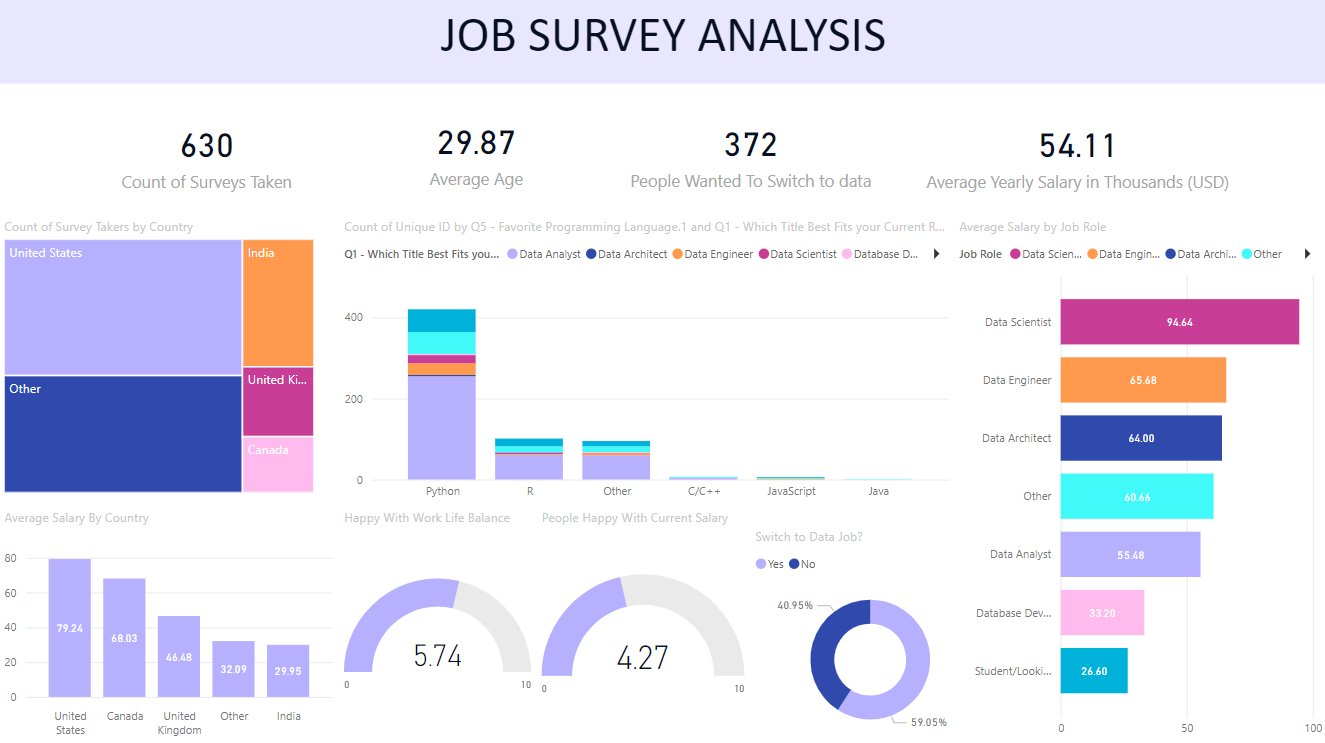

Layout of this report page (visuals, bound fields, positions):
{"tool":"powerbi","page":{"name":"Page 1","canvas":[1280,720],"ordinal":0},"visuals":[{"type":"textbox","box":[0,0,1280.7,81.9],"z":0},{"type":"card","fields":{"Values":["Count(Data Professional Survey.Unique ID)"]},"box":[91.2,83.8,217.5,130],"z":1000},{"type":"card","fields":{"Values":["Avg(Data Professional Survey.Q10 - Current Age)"]},"box":[347.5,82.5,226.2,128.8],"z":2000},{"type":"barChart","title":"Average Salary by Job Role","fields":{"Category":["Data Professional Survey.Q1 - Which Title Best Fits your Current Role?.1"],"Y":["Avg(Data Professional Survey.Average Yearly Salary in K (USD))"],"Series":["Data Professional Survey.Q1 - Which Title Best Fits your Current Role?.1"]},"box":[920,211.4,360,508.6],"z":3000},{"type":"treemap","title":"Count of Survey Takers by Country","fields":{"Group":["Data Professional Survey.Q11 - Which Country do you live in?.1"],"Values":["Count(Data Professional Survey.Unique ID)"]},"box":[0,211.4,308.6,270],"z":4000},{"type":"clusteredColumnChart","title":"Average Salary By Country","fields":{"Category":["Data Professional Survey.Q11 - Which Country do you live in?.1"],"Y":["Avg(Data Professional Survey.Average Yearly Salary in K (USD))"]},"box":[0,491.7,326.7,228.3],"z":5000},{"type":"gauge","title":"People Happy With Current Salary","fields":{"Y":["Avg(Data Professional Survey.Q6 - How Happy are you in your Current Position with the following? (Salary))"],"MinValue":["Min(Data Professional Survey.Q6 - How Happy are you in your Current Position with the following? (Salary))"],"MaxValue":["Max(Data Professional Survey.Q6 - How Happy are you in your Current Position with the following? (Salary))"]},"box":[518.6,491.4,205.7,228.6],"z":6000},{"type":"gauge","title":"Happy With Work Life Balance","fields":{"Y":["Avg(Data Professional Survey.Q6 - How Happy are you in your Current Position with the following? (Work/Life Balance))"],"MinValue":["Min(Data Professional Survey.Q6 - How Happy are you in your Current Position with the following? (Work/Life Balance))"],"MaxValue":["Max(Data Professional Survey.Q6 - How Happy are you in your Current Position with the following? (Work/Life Balance))"]},"box":[327.7,491.6,190.4,228.9],"z":7000},{"type":"columnChart","fields":{"Category":["Data Professional Survey.Q5 - Favorite Programming Language.1"],"Y":["Count(Data Professional Survey.Unique ID)"],"Series":["Data Professional Survey.Q1 - Which Title Best Fits your Current Role?.1"]},"box":[327.1,211.4,592.9,280],"z":8000},{"type":"donutChart","title":"Switch to Data Job?","fields":{"Category":["Data Professional Survey.Q2 - Did you switch careers into Data?"],"Y":["CountNonNull(Data Professional Survey.Swith to data?)"]},"box":[724.2,509.2,231.7,210.8],"z":9000},{"type":"card","fields":{"Values":["Sum(Data Professional Survey.Swith to data?)"]},"box":[588.8,83.8,271.2,128.8],"z":10000},{"type":"card","fields":{"Values":["Avg(Data Professional Survey.Average Yearly Salary in K (USD))"]},"box":[885,83.8,308.8,130],"z":11000}]}

Visuals, with their boxes in screenshot pixels (x1, y1, x2, y2), scaled from the page's 1280x720 canvas onto the 1325x743 screenshot:
textbox: crop(0, 0, 1324, 85)
card - Count(Data Professional Survey.Unique ID): crop(94, 86, 320, 221)
card - Avg(Data Professional Survey.Q10 - Current Age): crop(360, 85, 594, 218)
"Average Salary by Job Role" barChart: crop(952, 218, 1324, 742)
"Count of Survey Takers by Country" treemap: crop(0, 218, 319, 497)
"Average Salary By Country" clusteredColumnChart: crop(0, 507, 338, 742)
"People Happy With Current Salary" gauge: crop(537, 507, 750, 742)
"Happy With Work Life Balance" gauge: crop(339, 507, 536, 742)
columnChart - Data Professional Survey.Q5 - Favorite Programming Language.1 x Count(Data Professional Survey.Unique ID): crop(339, 218, 952, 507)
"Switch to Data Job?" donutChart: crop(750, 525, 990, 742)
card - Sum(Data Professional Survey.Swith to data?): crop(610, 86, 890, 219)
card - Avg(Data Professional Survey.Average Yearly Salary in K (USD)): crop(916, 86, 1236, 221)
